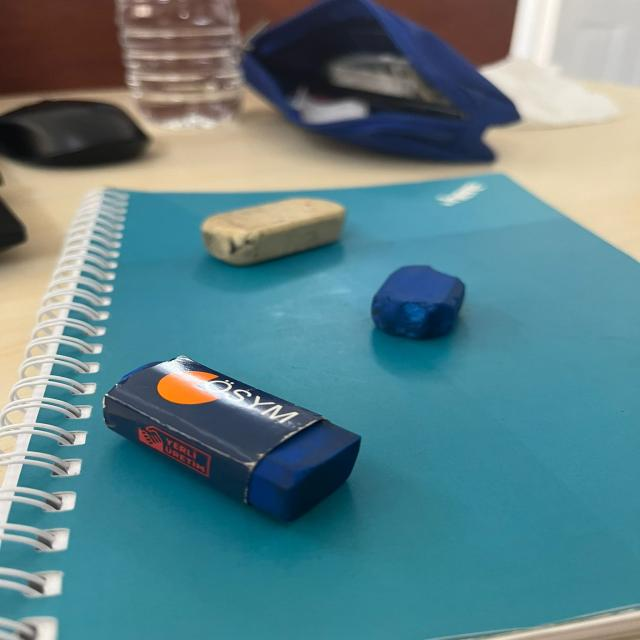eraser: (88, 345, 368, 532), (185, 189, 356, 274), (367, 260, 473, 346)
